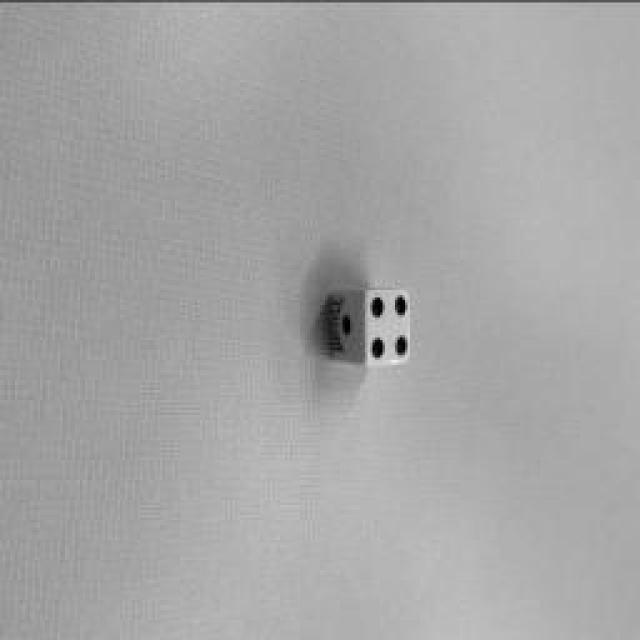dice_4: (365, 288, 410, 362)
